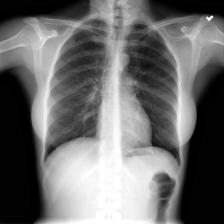normal: (39, 16, 184, 174)
